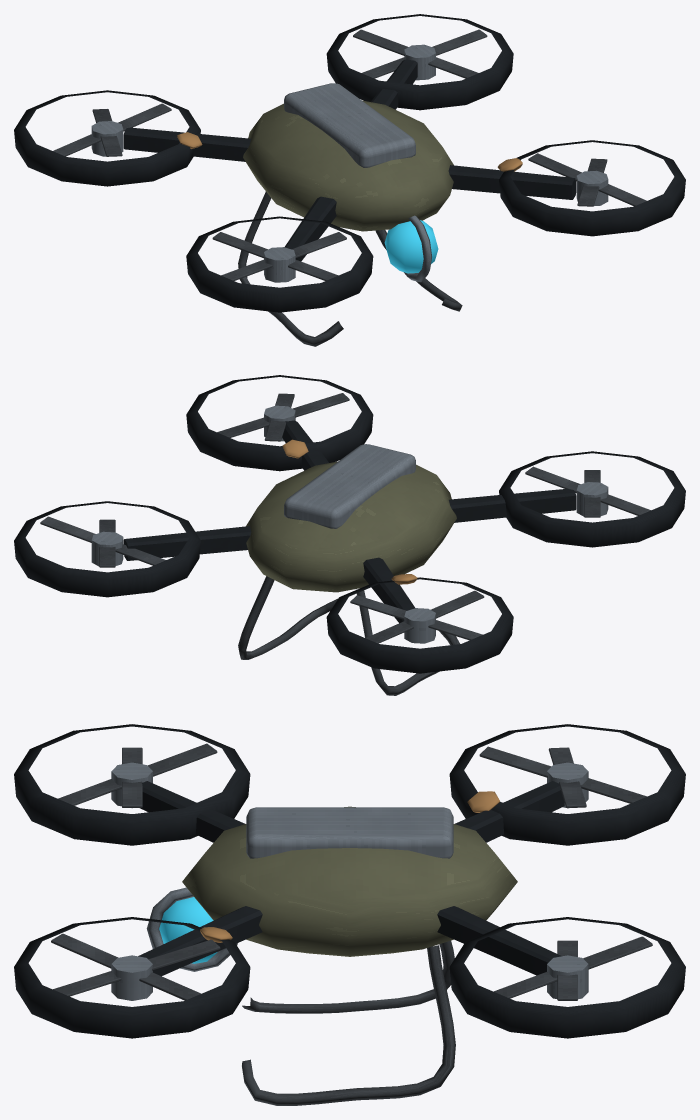
Rendered from combat-drone.lod2.glb.
The picture shows the model from 3 angles, top to bottom: view 1: azimuth 30°, elevation 25°; view 2: azimuth 150°, elevation 25°; view 3: azimuth 270°, elevation 25°; orthographic projection. The views are drawn at different scales.
Visible parts, largest first — view 1: polymer / stippled polymer, ceramic / ceramic composite panel, alloy / machined anodized alloy, darksteel / oil-blackened fittings, crystal / faceted crystal, peened pin; view 2: polymer / stippled polymer, ceramic / ceramic composite panel, darksteel / oil-blackened fittings, alloy / machined anodized alloy, peened pin; view 3: polymer / stippled polymer, ceramic / ceramic composite panel, darksteel / oil-blackened fittings, alloy / machined anodized alloy, crystal / faceted crystal, peened pin.
Part boxes in pixels (x1,y1,x2,y2): polymer / stippled polymer: (14,14,685,312); ceramic / ceramic composite panel: (243,100,453,231); alloy / machined anodized alloy: (91,44,608,282); darksteel / oil-blackened fittings: (53,29,646,346); crystal / faceted crystal: (384,220,438,273); peened pin: (177,132,522,171); polymer / stippled polymer: (14,375,685,673); ceramic / ceramic composite panel: (246,461,456,592); darksteel / oil-blackened fittings: (40,393,650,695); alloy / machined anodized alloy: (91,405,608,643); peened pin: (282,439,417,584); polymer / stippled polymer: (14,724,685,1038); ceramic / ceramic composite panel: (182,806,517,956); darksteel / oil-blackened fittings: (51,743,652,1105); alloy / machined anodized alloy: (111,762,588,1000); crystal / faceted crystal: (159,897,217,963); peened pin: (200,791,499,942).
Size of the model in its own units: 0.668 by 0.2544 by 0.648.
Materials: 6 (4 with a texture image).
